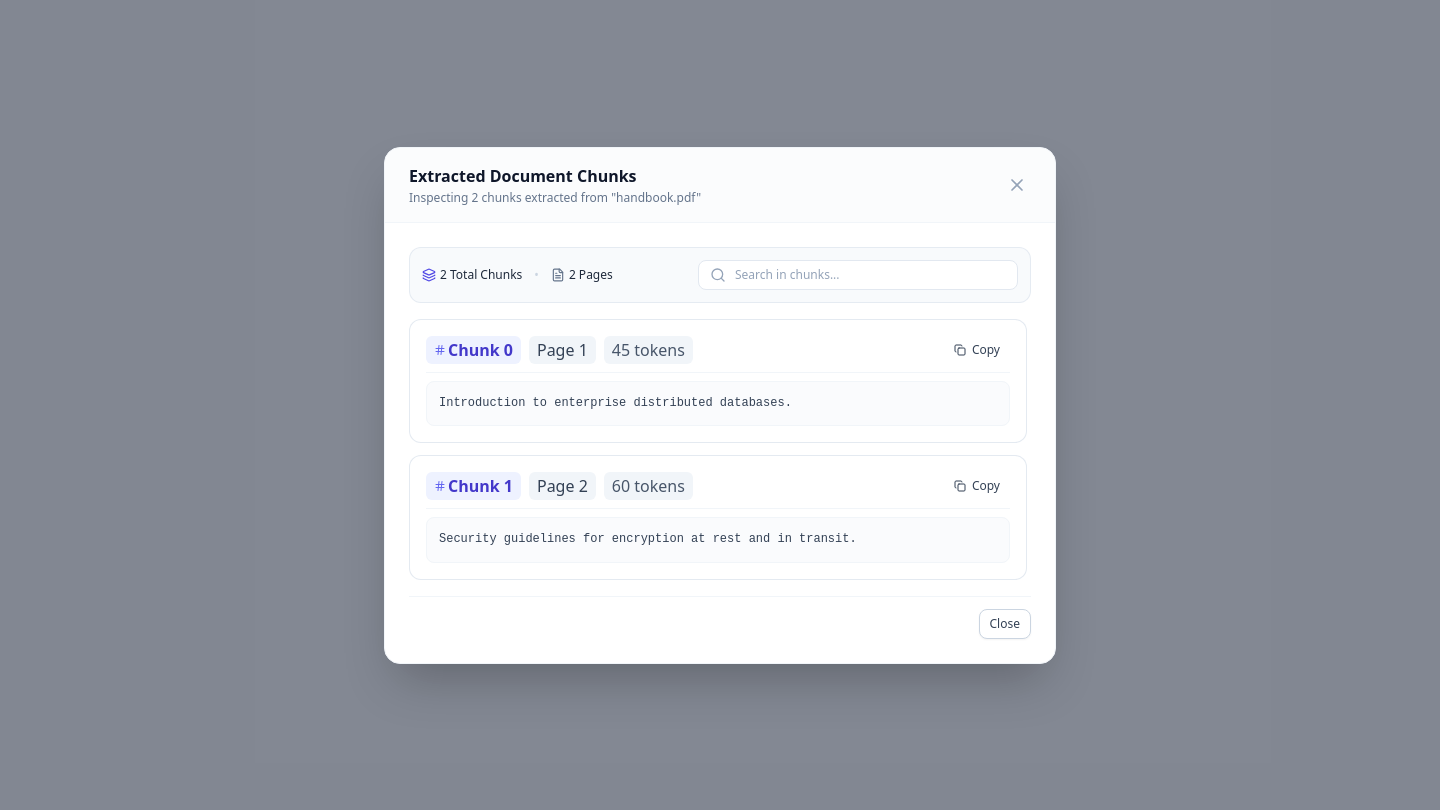
Scenario: Document Management and Status Handling › renders extracted chunks, page numbers, token count, and supports search filtering
Expected: the heading "Extracted Document Chunks" is shown, x1=409 y1=164 x2=636 y2=186
Expected: the text "Chunk 0" is shown, x1=426 y1=336 x2=521 y2=364
Note: Test search inside chunk viewer
Type "encryption" into the field with test id "chunk-search-input" at (858, 274), box x1=698 y1=260 x2=1018 y2=290
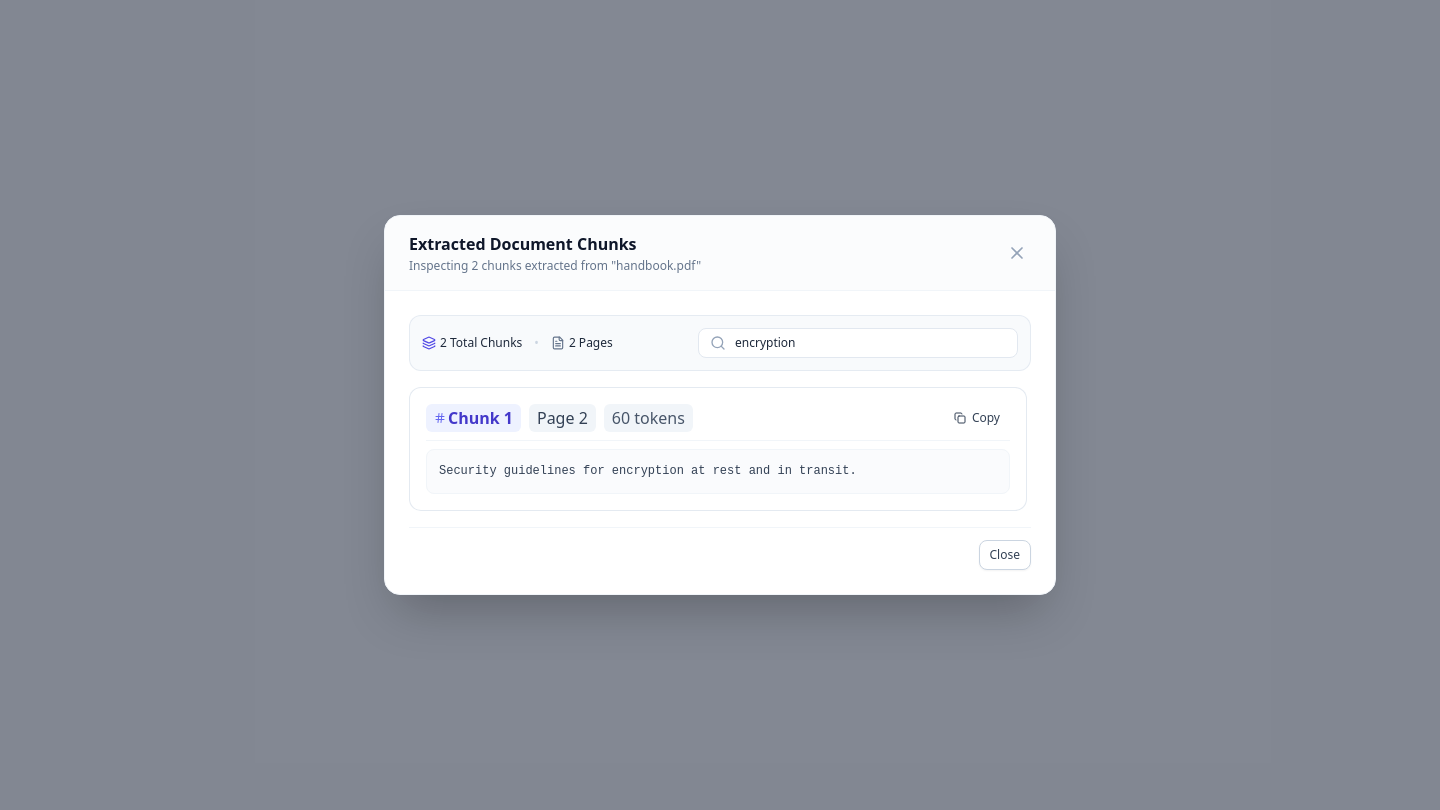
Expected: the text "Security guidelines for encryption at rest and in transit." is shown, x1=426 y1=449 x2=1010 y2=494
Expected: the text "Introduction to enterprise distributed databases." is gone
